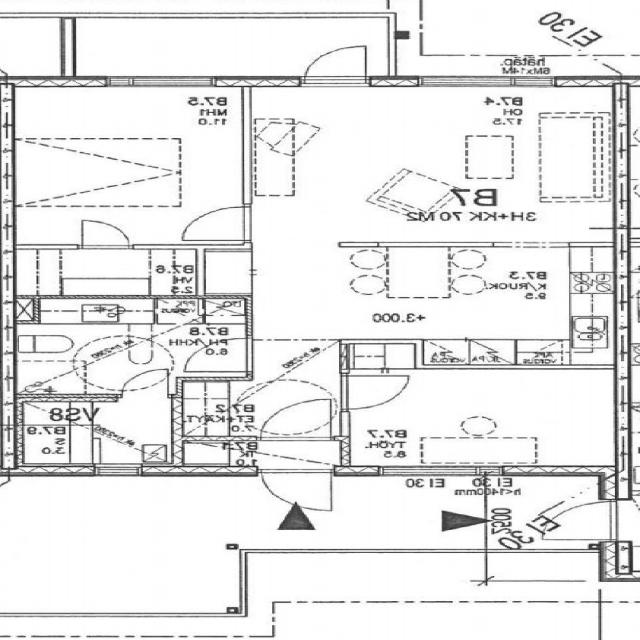door: (263, 466, 332, 514), (262, 398, 331, 440), (306, 42, 366, 86), (342, 376, 410, 409), (184, 207, 252, 240), (185, 338, 252, 371), (123, 368, 169, 402), (82, 218, 129, 248)
